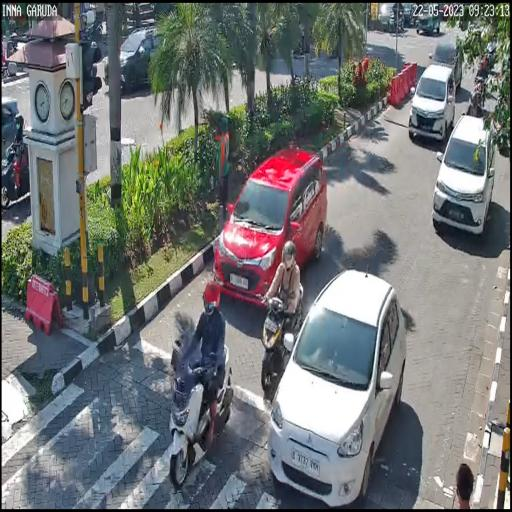mobil: (262, 277, 409, 508), (212, 144, 326, 320), (435, 116, 495, 255), (410, 55, 452, 152)
motor: (164, 330, 234, 492), (259, 286, 304, 396)
